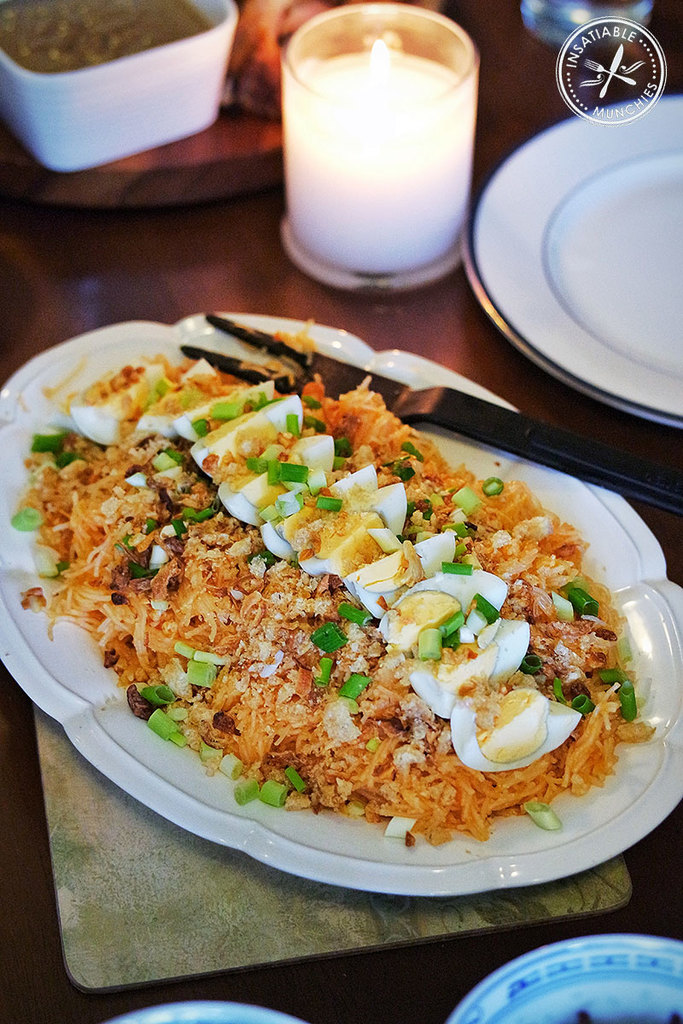plate: (20, 295, 682, 963)
